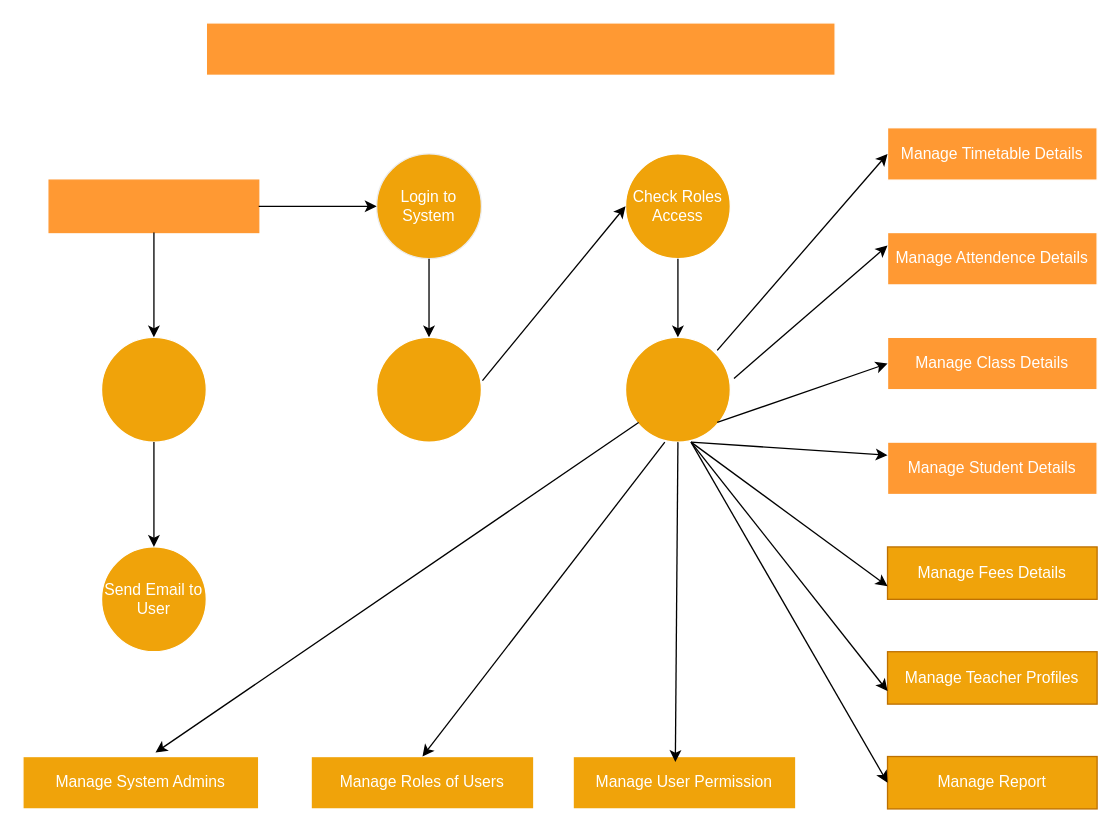
Some shapes in this 1120 by 832 pixel diagram are drawn without their labels. Here are the shapes that lost their labels. From the top down, the centre of each, then its label:
point 520,48: S tudent Infoemation System
point 153,206: Admin
point 153,389: Forget Password
point 428,389: Check Credentials
point 677,389: Manage Modules
